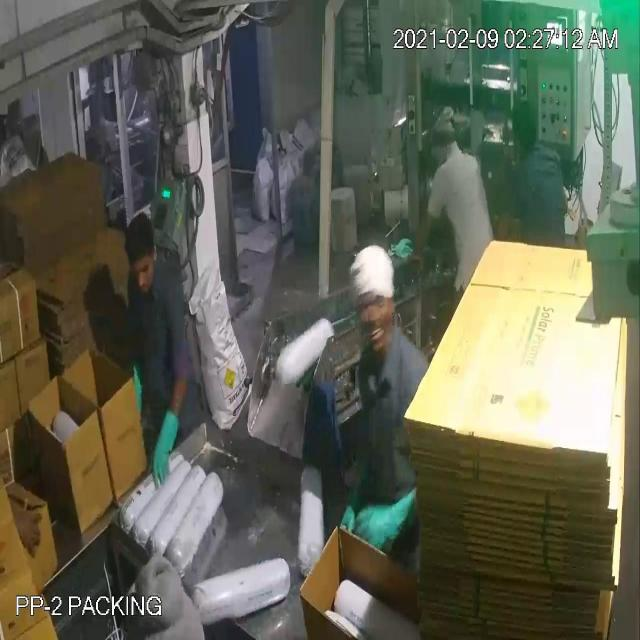Gloves: (28, 80, 422, 526)
